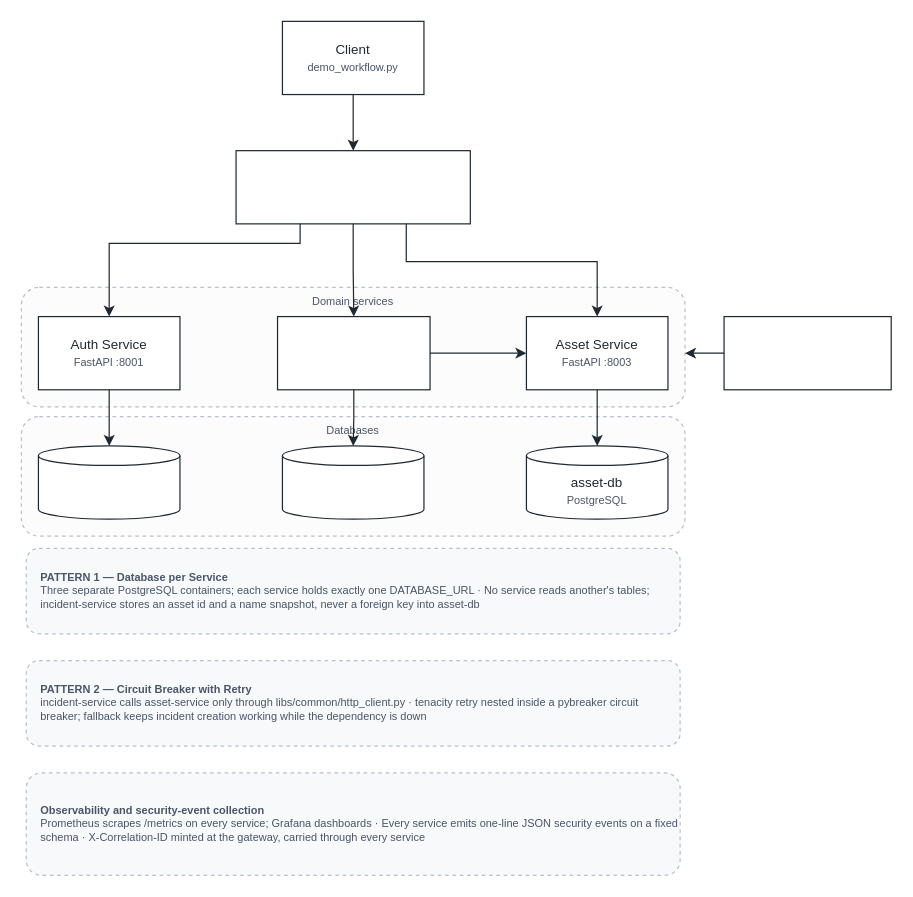
Image size: 913x897. Some labels were removed from this diagram. The box of each missing label's shape, as (x1, y1, x2, y2) in pixels:
auth-db PostgreSQL: (37, 445, 180, 519)
Consul service registry :8500: (723, 315, 891, 390)
Incident Service FastAPI :8002: (276, 315, 430, 390)
incident-db PostgreSQL: (281, 445, 424, 519)
Kong API Gateway JWT · rate limit · correlation ID: (235, 149, 470, 224)
